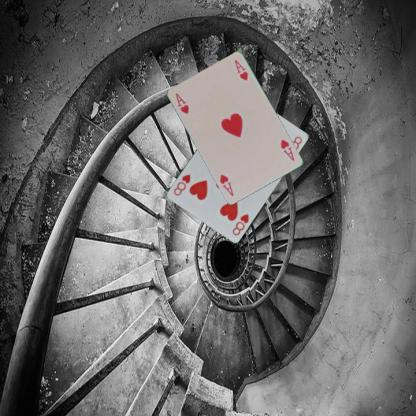8h: (230, 211, 250, 236)
Ah: (172, 90, 190, 116), (278, 136, 296, 162)
